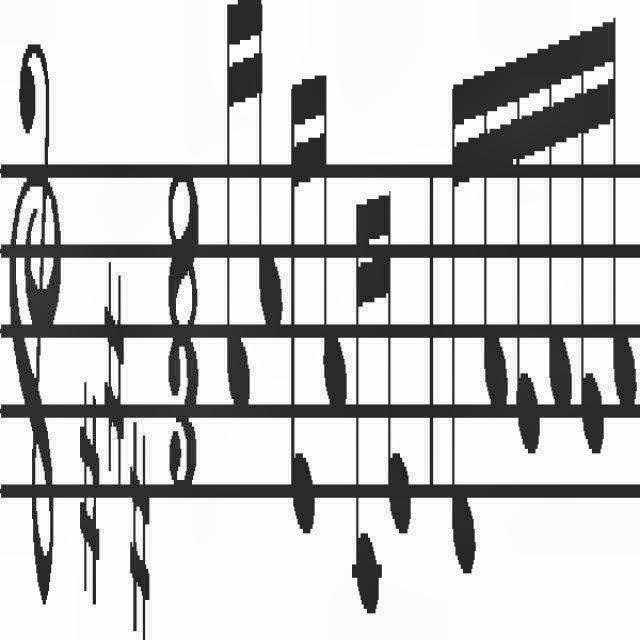Bass-clef: (6, 0, 64, 614)
Diez: (101, 255, 127, 501), (125, 408, 151, 640), (77, 383, 101, 632)
Sixteenth-note: (445, 0, 477, 618), (603, 0, 640, 444), (287, 53, 317, 560), (350, 187, 382, 640), (576, 2, 604, 500), (510, 20, 538, 490), (546, 1, 574, 466), (312, 68, 348, 422), (382, 192, 418, 544), (479, 14, 507, 454), (250, 0, 284, 360), (224, 1, 250, 432), (639, 0, 640, 444)
